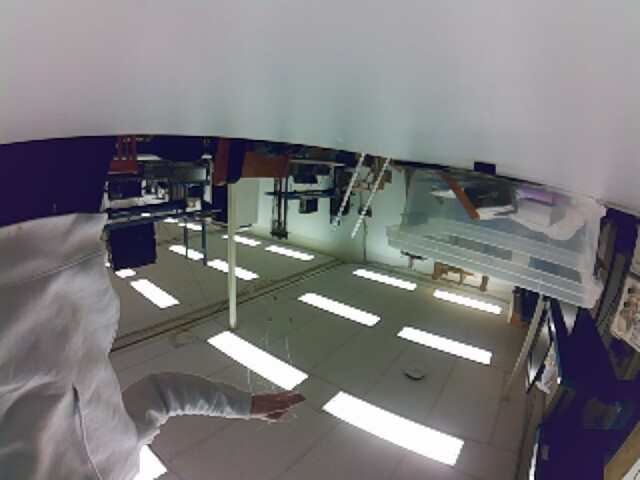mosquito: (266, 314, 272, 324), (272, 293, 277, 301), (288, 315, 293, 323)
